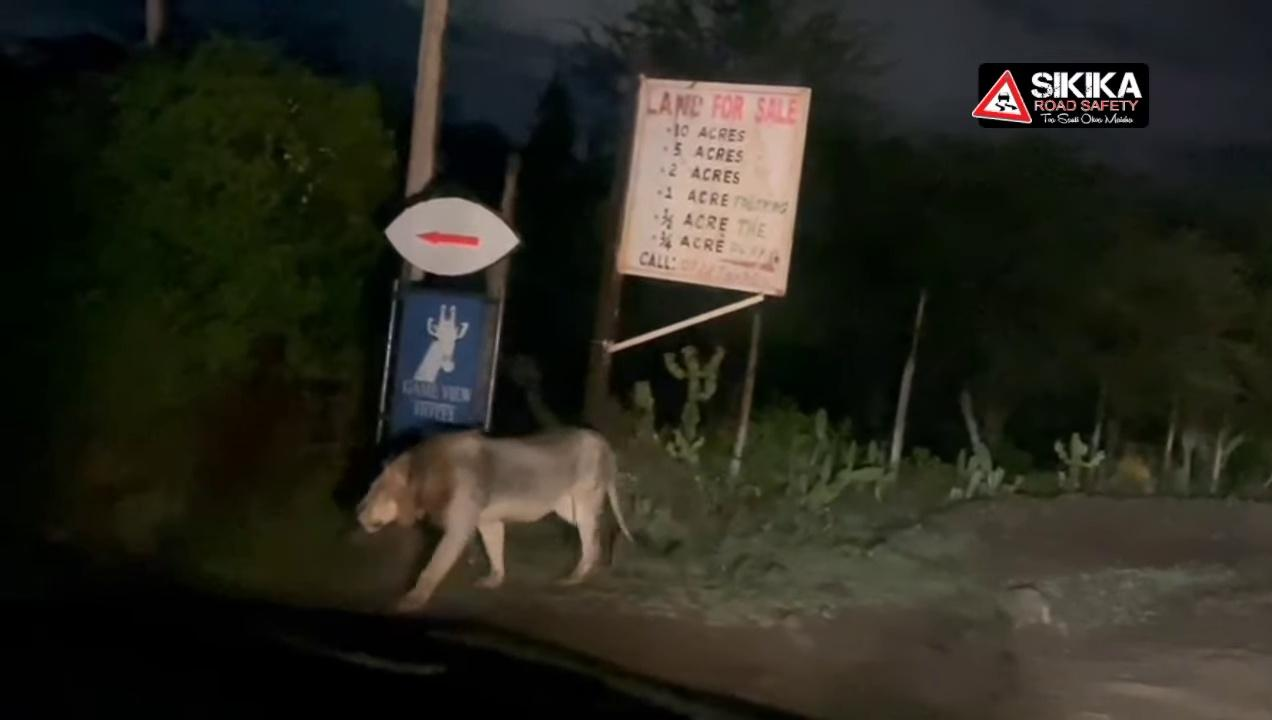lions: (344, 407, 636, 625)
